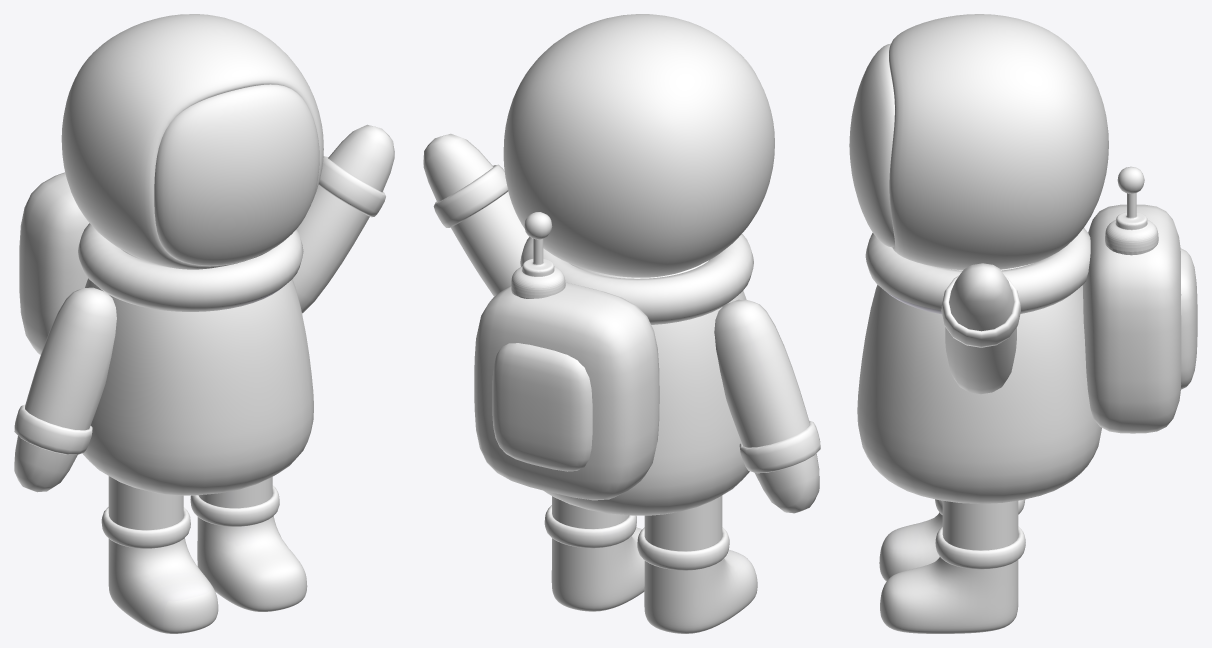
File: astronauta.obj
3 views of the same model, side by side, from view 1: azimuth 30°, elevation 25°; view 2: azimuth 150°, elevation 25°; view 3: azimuth 270°, elevation 25° (orthographic). The views are drawn at different scales.
Parts seen in each view (by area): view 1: Legs; view 2: Legs; view 3: Legs.
Part boxes in pixels (x1=…): Legs: x1=14, y1=14, x2=394, y2=633; Legs: x1=423, y1=14, x2=820, y2=633; Legs: x1=849, y1=14, x2=1197, y2=633.
Bounding box in the file's own units: 2.48 × 3.56 × 1.97.
Materials: 4 (4 with a texture image).
